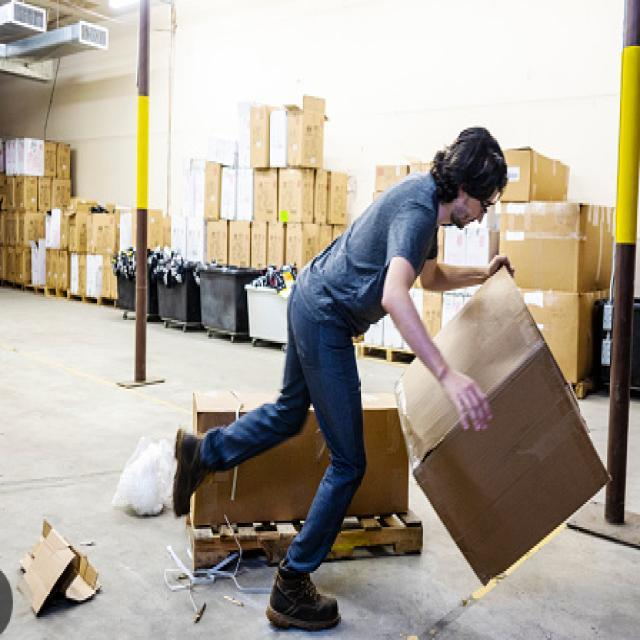boots: (168, 426, 340, 635)
